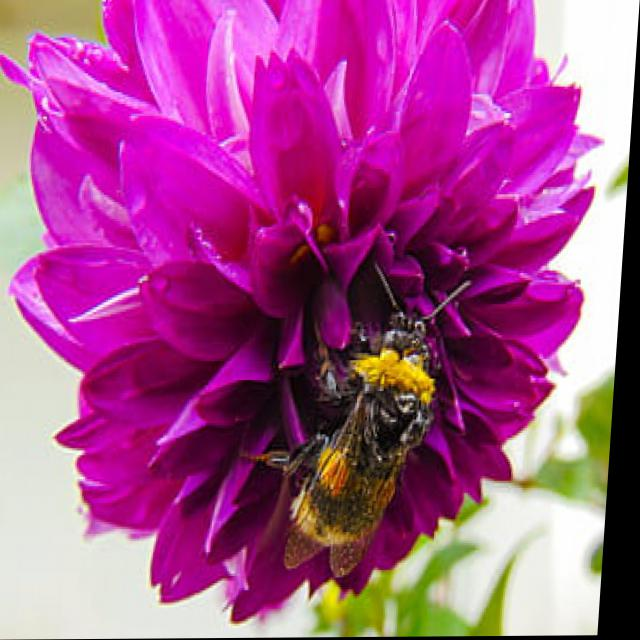Vespa Crabro: (243, 223, 500, 589)
